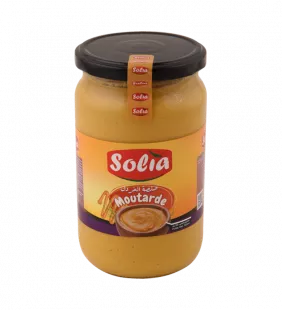SOLIA: (68, 20, 213, 284)
